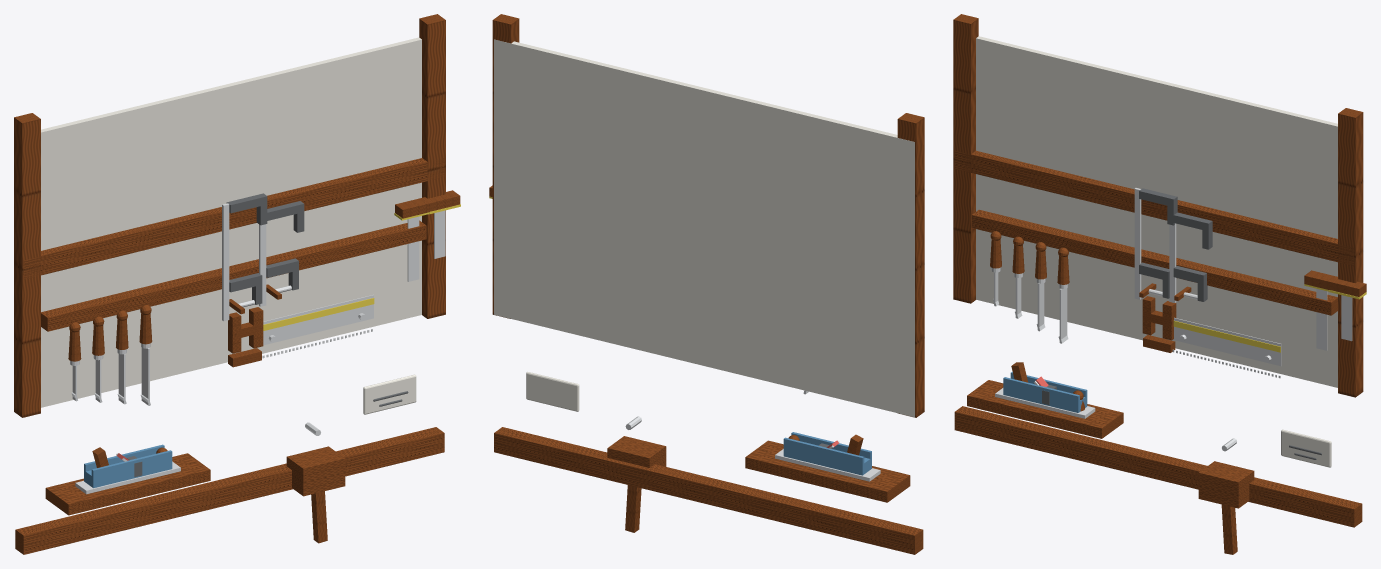
Rendered from woodworking-workshop-and-joinery-woodworking-workshop--d2de689f__34253.glb.
The picture shows the model from 3 angles, left to right: view 1: azimuth 30°, elevation 25°; view 2: azimuth 150°, elevation 25°; view 3: azimuth 330°, elevation 25°; orthographic projection. The views are drawn at different scales.
Visible parts, largest first — view 1: woodworking-workshop-and-joinery-tool-wall-panel; view 2: woodworking-workshop-and-joinery-tool-wall-panel; view 3: woodworking-workshop-and-joinery-tool-wall-panel.
Boxes of the visible parts, x1,y1,x2,y2 form: woodworking-workshop-and-joinery-tool-wall-panel: (14,14,460,554); woodworking-workshop-and-joinery-tool-wall-panel: (489,14,924,554); woodworking-workshop-and-joinery-tool-wall-panel: (953,14,1366,554).
Size of the model in its own units: 1.65 by 1.77 by 0.16.
Materials: 7 (1 with a texture image).
